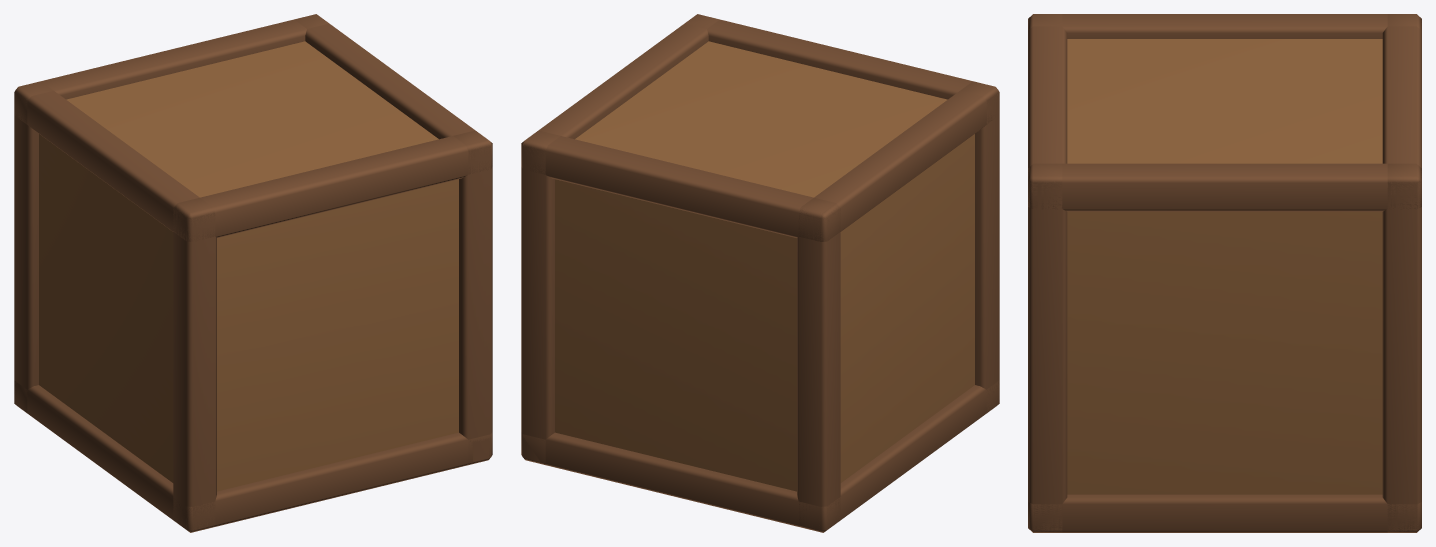
Rendered from crate.glb.
The picture shows the model from 3 angles, left to right: view 1: azimuth 30°, elevation 25°; view 2: azimuth 150°, elevation 25°; view 3: azimuth 270°, elevation 25°; orthographic projection. The views are drawn at different scales.
Parts seen in each view (by area): view 1: Crate; view 2: Crate; view 3: Crate.
Boxes of the visible parts, x1,y1,x2,y2 form: Crate: (14,14,492,532); Crate: (521,14,999,532); Crate: (1028,14,1421,532).
Size of the model in its own units: 0.6 by 0.6 by 0.6.
